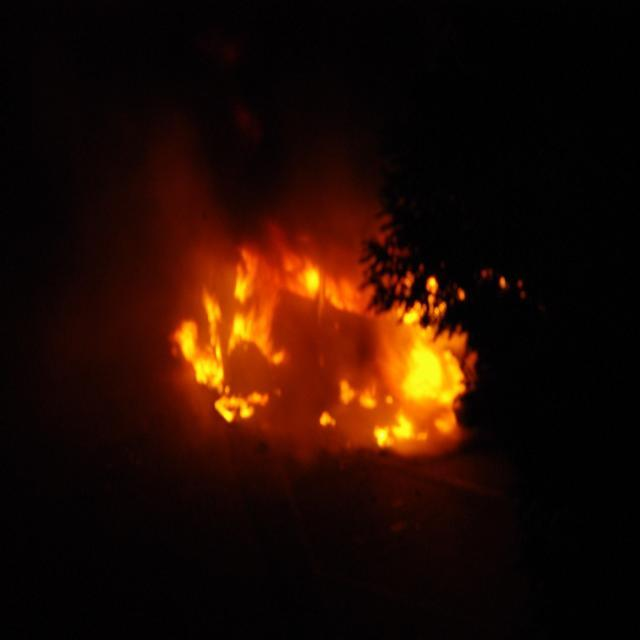Fire: (403, 319, 463, 436), (236, 258, 282, 354), (194, 334, 228, 398)
